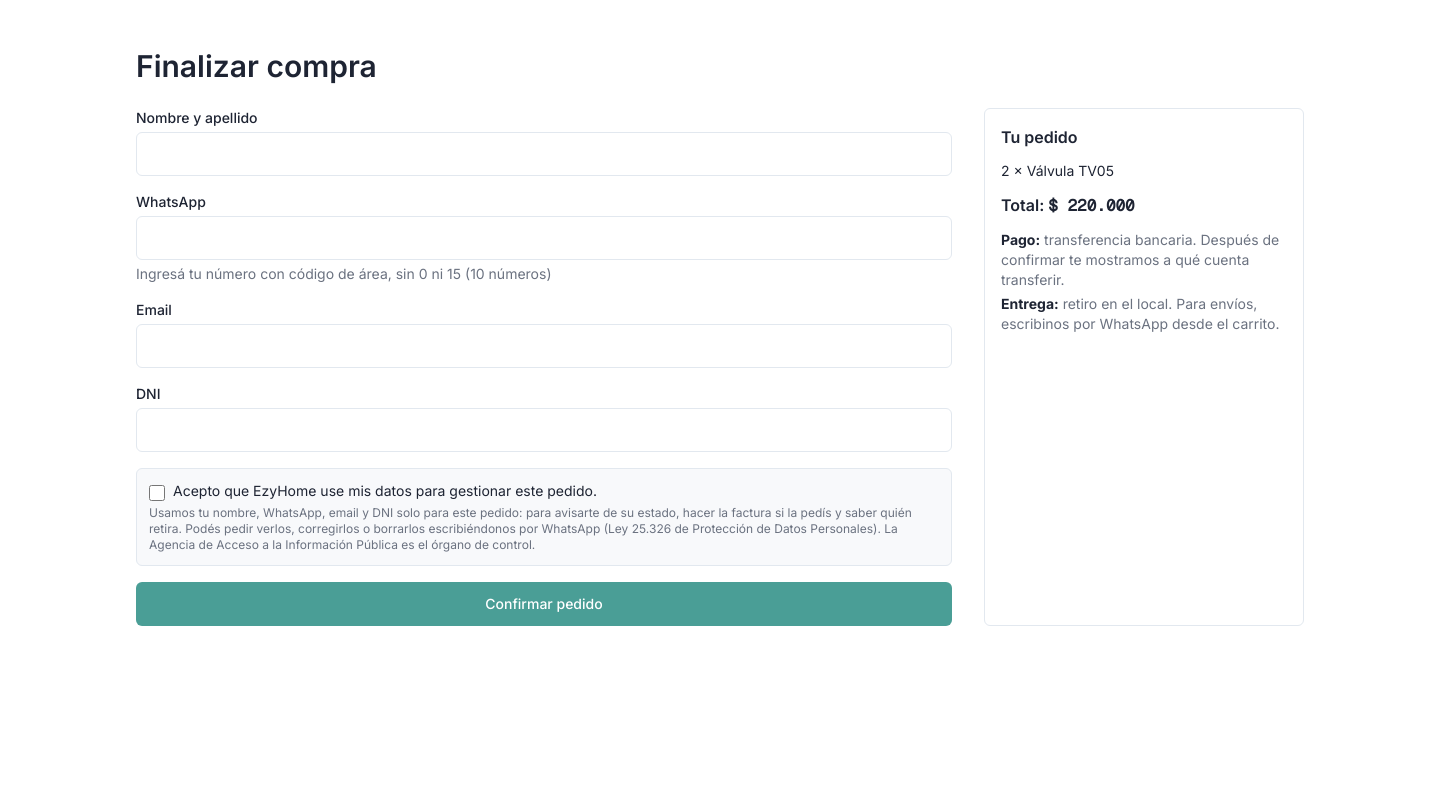
Test: CheckoutPage › should explain the missing stock and adjust the cart on request (409)
Type "Ana Pérez" into the field labelled "Nombre y apellido".
click(544, 154); type("Ana Pérez")  # box [136,132,952,176]
Type "11 5555-4444" into the field labelled "WhatsApp".
click(544, 238); type("11 5555-4444")  # box [136,216,952,260]
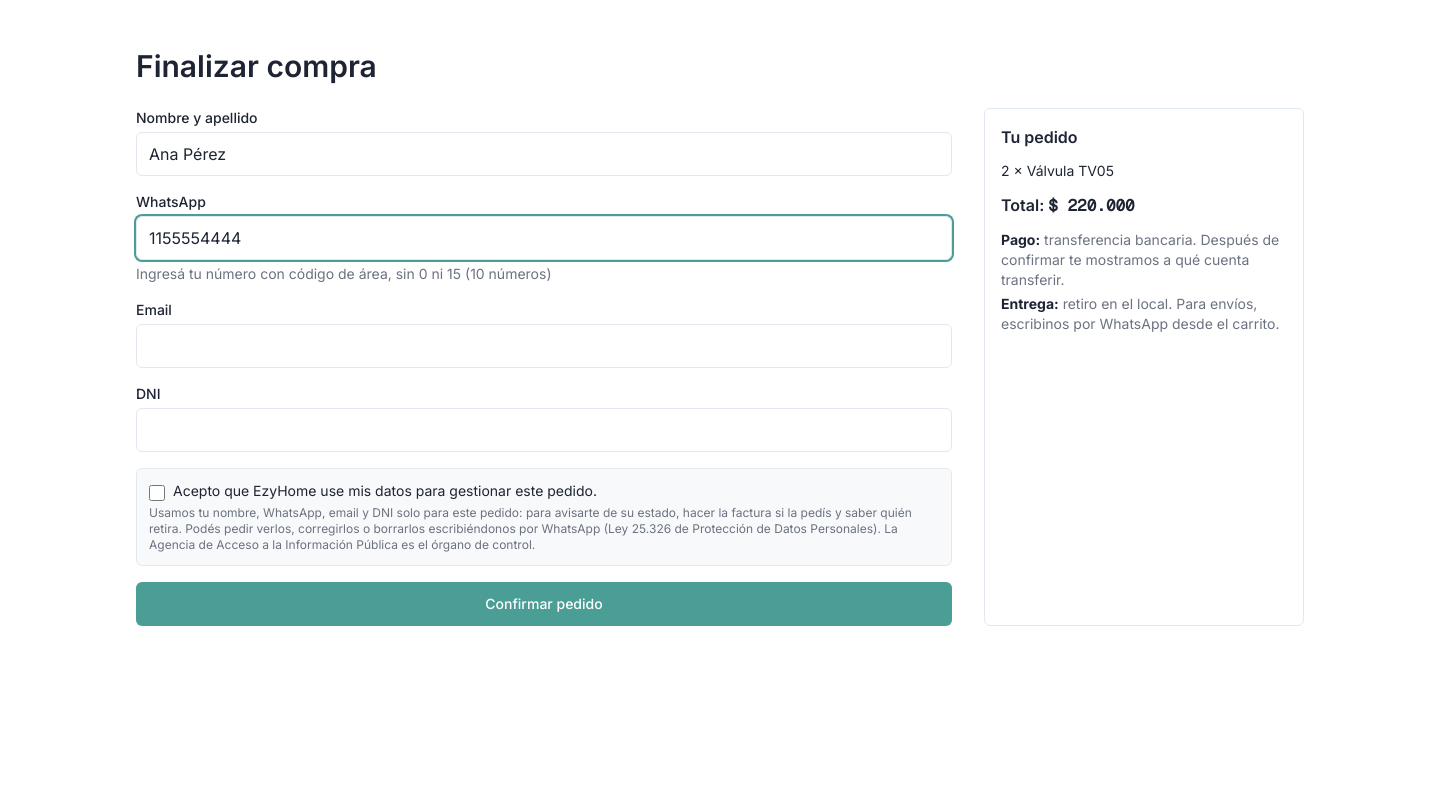
Type "ana@mail.com" into the field labelled "Email".
click(544, 346); type("ana@mail.com")  # box [136,324,952,368]
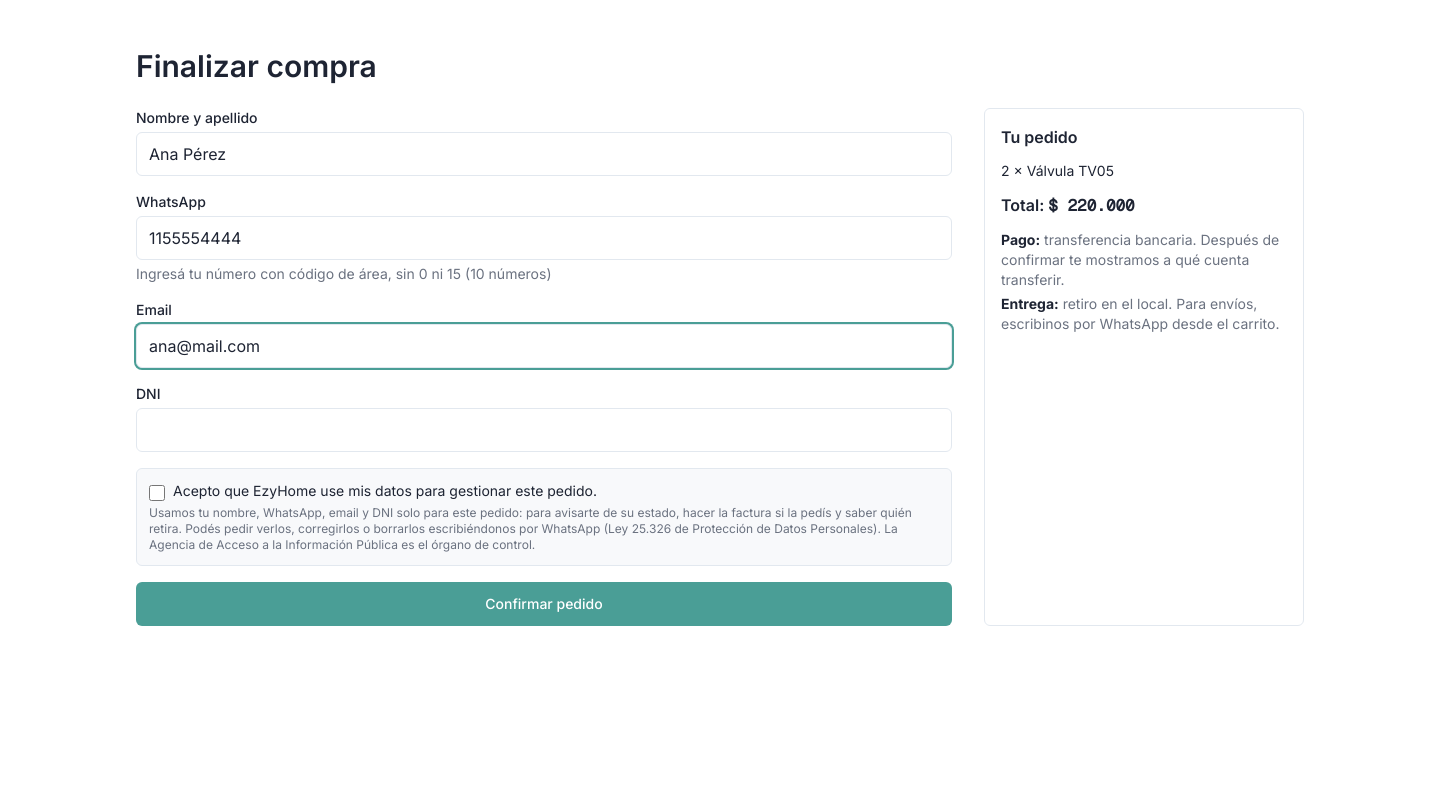
Type "30111222" into the field labelled "DNI".
click(544, 430); type("30111222")  # box [136,408,952,452]
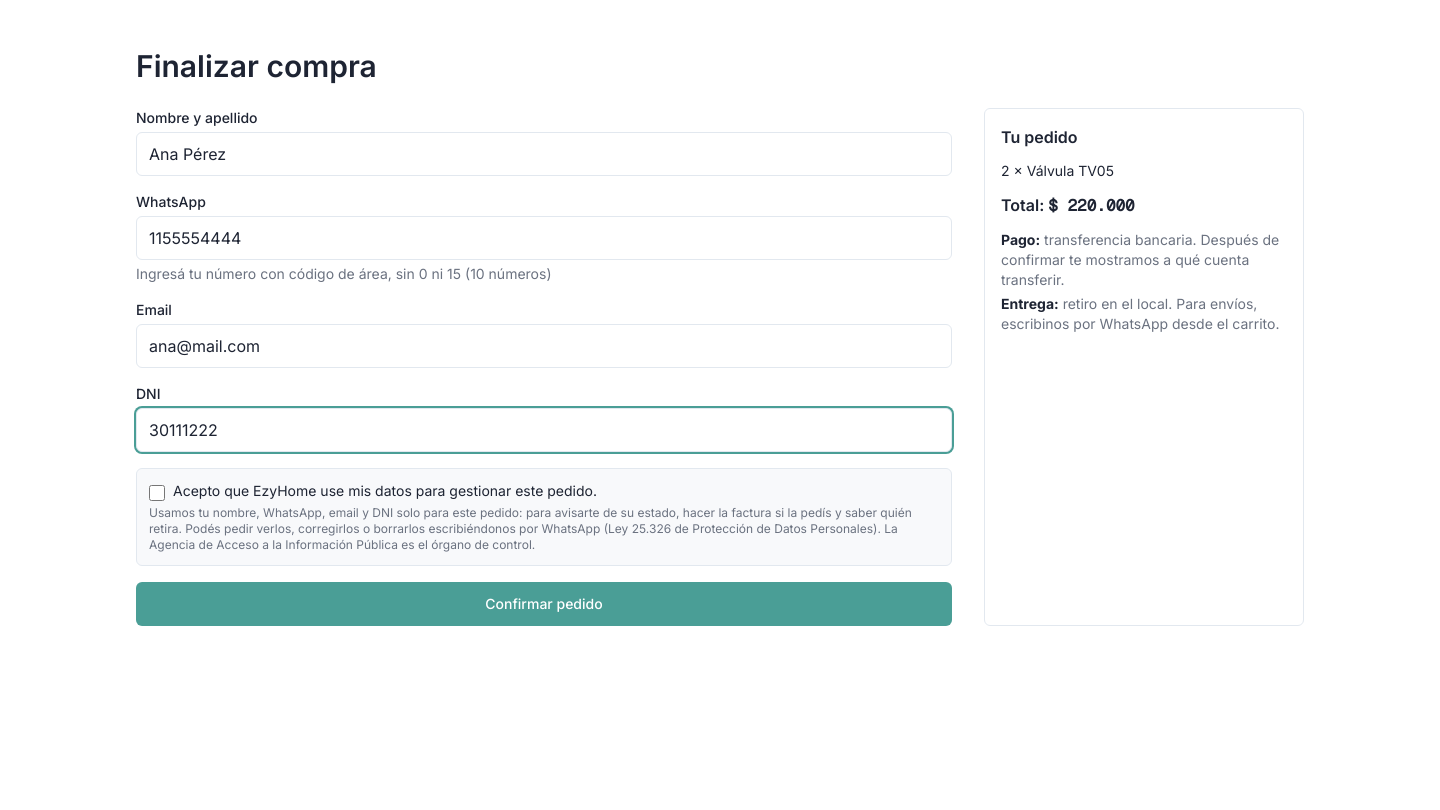
Click the checkbox labelled "Acepto que EzyHome use mis datos para gestionar este pedido.".
click(157, 493)  # box [149,485,165,501]
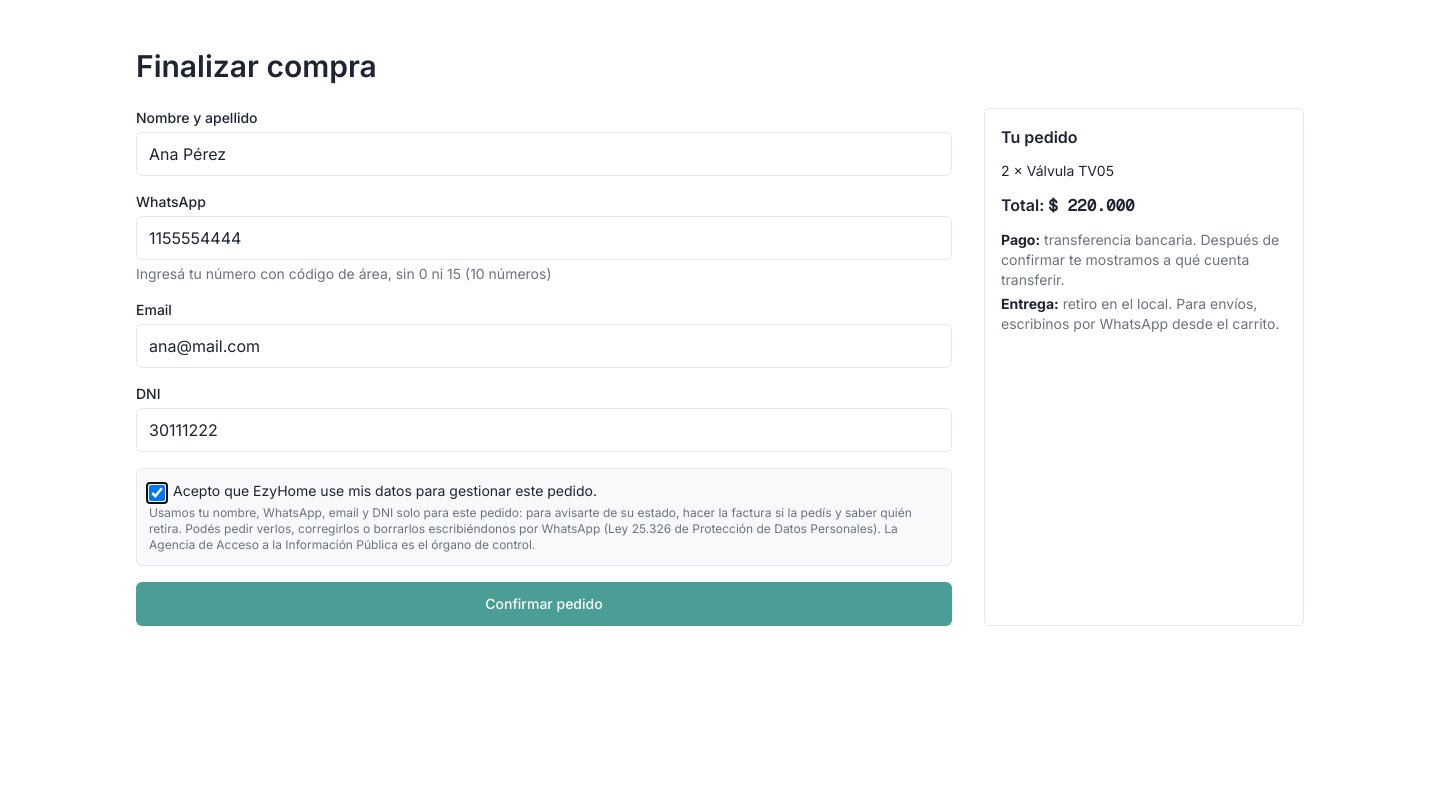
Click the button "Confirmar pedido".
click(544, 604)  # box [136,582,952,626]
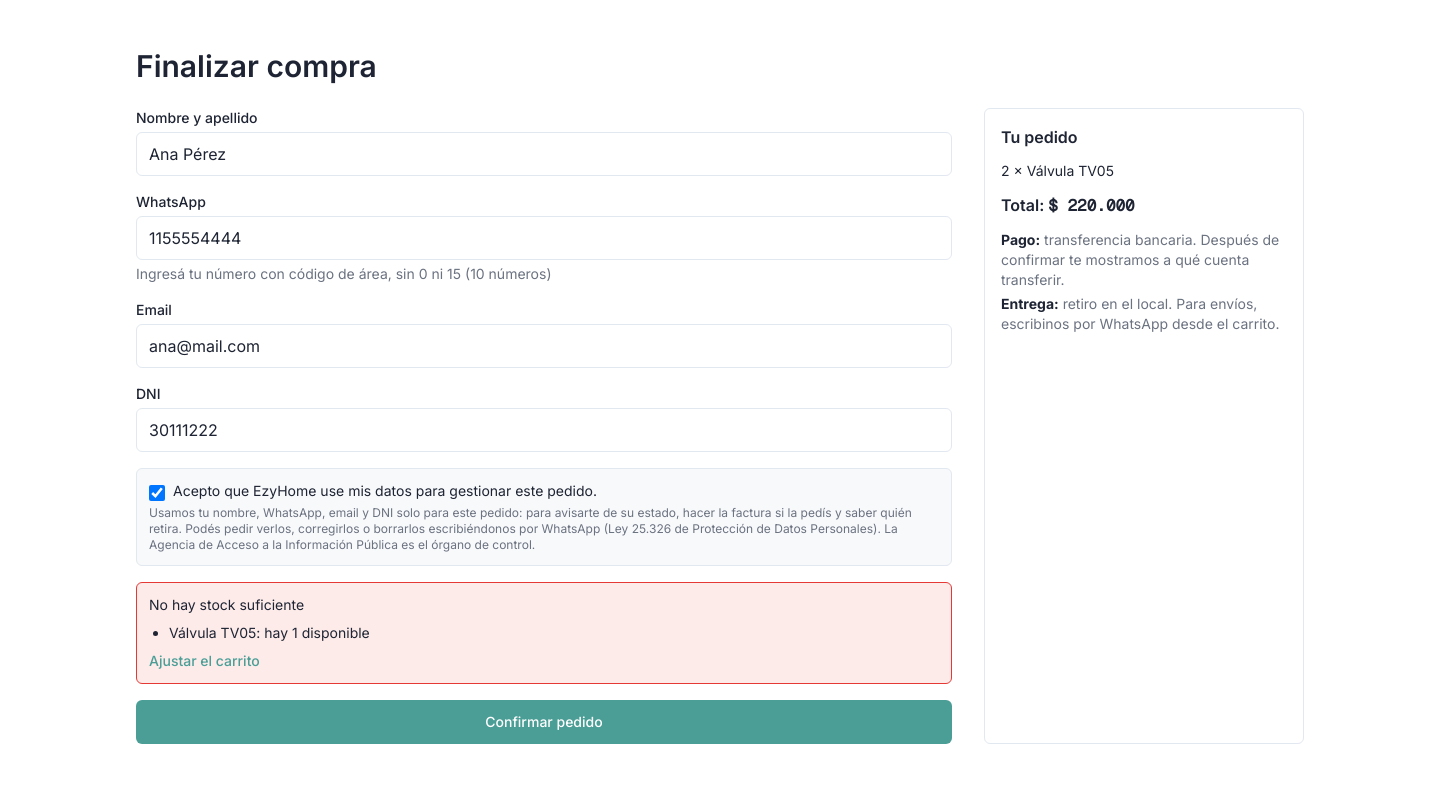
Expected: the list item "Válvula TV05: hay 1 disponible" is shown, [169,624,370,641]
Click the button "Ajustar el carrito".
click(204, 661)  # box [149,651,260,671]
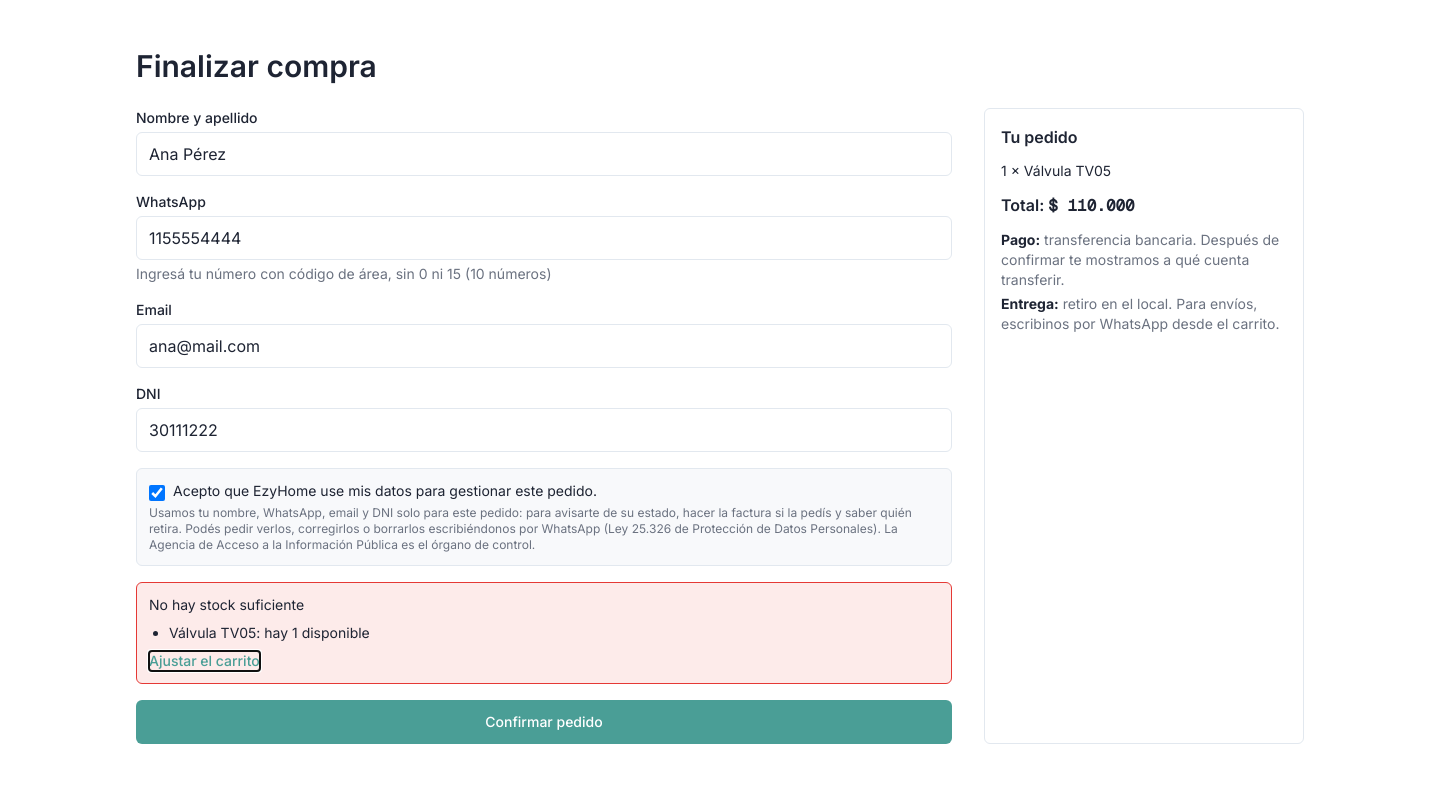
Expected: the list item "1 × Válvula TV05" is shown, [1001,162,1111,179]
